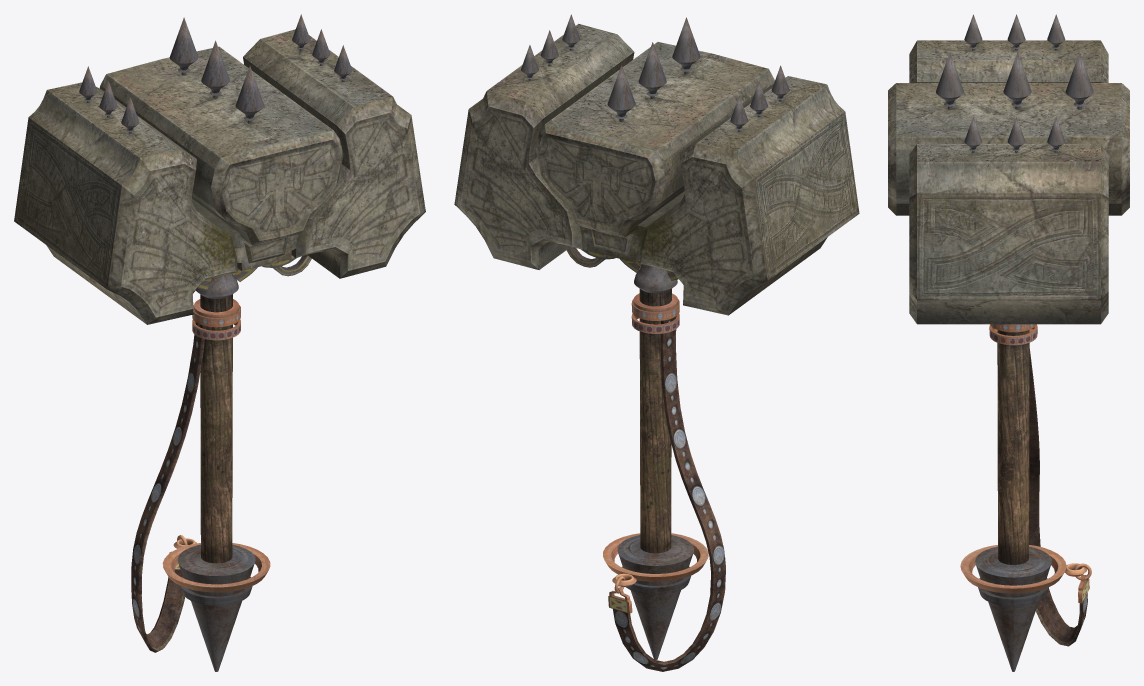
The picture shows the model from 3 angles, left to right: view 1: azimuth 30°, elevation 25°; view 2: azimuth 150°, elevation 25°; view 3: azimuth 270°, elevation 25°; orthographic projection.
Visible parts, largest first — view 1: hammer_FINISH; view 2: hammer_FINISH; view 3: hammer_FINISH.
Part boxes in pixels (x1,y1,x2,y2): hammer_FINISH: (14, 14, 425, 671); hammer_FINISH: (454, 14, 859, 671); hammer_FINISH: (888, 14, 1129, 671).
Bounding box in the file's own units: 0.3582 × 0.6764 × 0.2391.
Materials: 1 (1 with a texture image).
